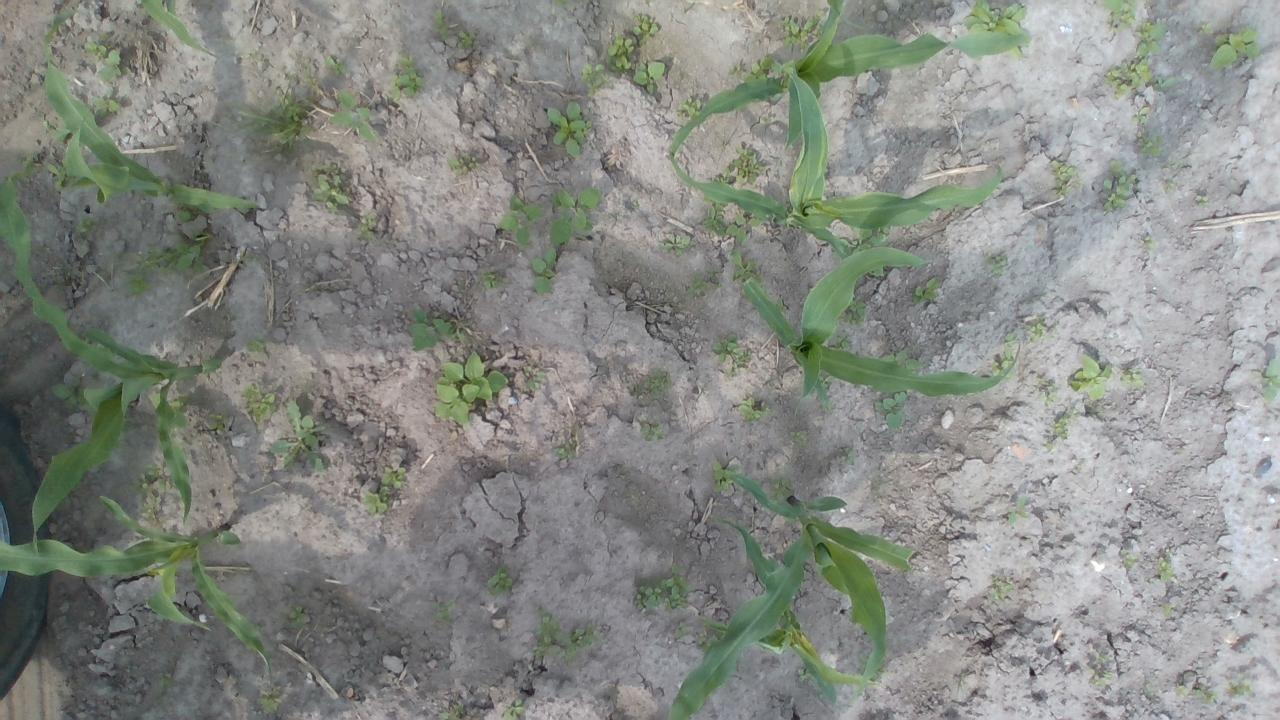Maize: (2, 140, 221, 558), (666, 470, 914, 720), (670, 62, 1003, 244), (672, 0, 1026, 152), (3, 495, 276, 676), (42, 9, 259, 219), (740, 246, 1022, 398), (726, 520, 874, 706), (143, 1, 221, 63)
Weeds: (532, 184, 600, 292), (435, 350, 512, 422), (268, 401, 334, 474), (242, 99, 304, 144), (961, 1, 1028, 38), (1207, 26, 1259, 72), (334, 92, 381, 142), (138, 243, 209, 276), (548, 102, 588, 158), (408, 306, 453, 354), (636, 568, 686, 609), (502, 194, 542, 244), (1072, 354, 1112, 402), (1102, 58, 1151, 97), (311, 162, 350, 210), (561, 624, 606, 664), (1105, 156, 1136, 210), (1043, 406, 1076, 454), (1133, 106, 1163, 158), (41, 9, 74, 56), (392, 55, 426, 98), (734, 142, 769, 182), (726, 211, 763, 248), (778, 12, 820, 44), (1252, 358, 1280, 404), (244, 386, 276, 424), (610, 34, 642, 72), (879, 391, 909, 428), (1048, 158, 1078, 194), (584, 60, 612, 98), (1136, 24, 1168, 57), (883, 349, 925, 374), (1028, 314, 1062, 344), (730, 246, 756, 283), (695, 616, 725, 648), (538, 612, 556, 662), (1104, 0, 1138, 26), (704, 198, 730, 232), (842, 230, 886, 250), (1089, 654, 1116, 686), (632, 59, 666, 84), (432, 7, 459, 38), (744, 58, 778, 81), (988, 578, 1018, 604), (194, 413, 227, 436), (361, 489, 389, 516), (739, 396, 770, 420), (630, 12, 658, 38), (449, 150, 482, 172), (714, 328, 738, 358), (648, 372, 676, 397), (98, 50, 123, 77), (918, 276, 946, 300), (1006, 492, 1028, 522), (662, 231, 692, 253), (714, 462, 737, 490), (523, 364, 547, 389), (488, 570, 515, 592), (678, 98, 702, 122), (846, 300, 868, 326), (1122, 369, 1146, 391), (985, 254, 1010, 275), (380, 466, 408, 484), (638, 420, 662, 441), (503, 700, 528, 720), (1228, 682, 1258, 698), (733, 350, 753, 373), (95, 97, 116, 118), (328, 56, 350, 75), (690, 278, 709, 300), (1003, 330, 1019, 356), (84, 42, 110, 58), (712, 168, 738, 184), (440, 703, 464, 720), (483, 272, 505, 290), (78, 219, 101, 236), (1196, 688, 1220, 704), (139, 470, 158, 490), (556, 444, 576, 463), (772, 478, 793, 496), (1155, 557, 1172, 579), (1124, 552, 1142, 572), (989, 359, 1010, 375), (836, 334, 856, 350), (158, 666, 172, 688), (362, 214, 376, 236), (132, 275, 148, 294), (790, 430, 809, 446), (436, 599, 454, 615), (262, 696, 278, 712), (729, 60, 745, 76), (457, 31, 472, 48), (246, 340, 264, 353), (1154, 76, 1172, 89), (676, 622, 689, 640), (1045, 386, 1056, 406), (1196, 192, 1210, 206), (1164, 602, 1176, 618), (292, 606, 303, 620), (1142, 236, 1152, 249), (1013, 47, 1024, 57), (1176, 685, 1186, 696), (1202, 23, 1210, 35)
